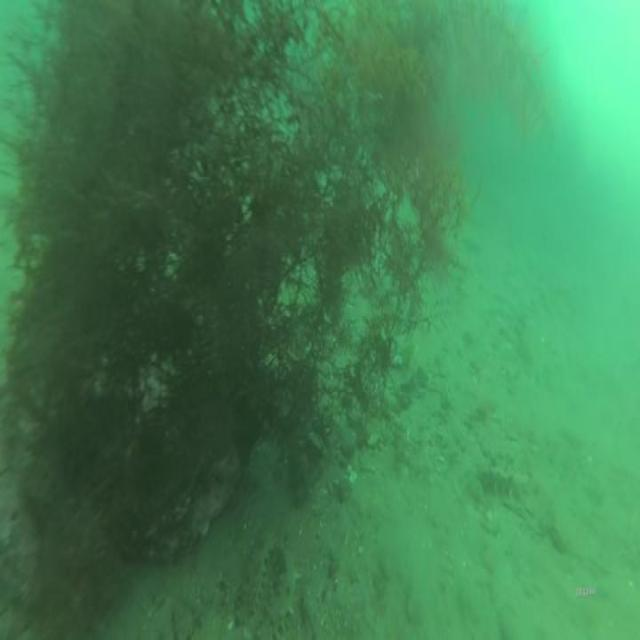holothurian: (302, 540, 337, 637), (236, 529, 268, 632), (268, 541, 300, 632), (479, 460, 540, 506)
waterweeds: (0, 0, 470, 550)
